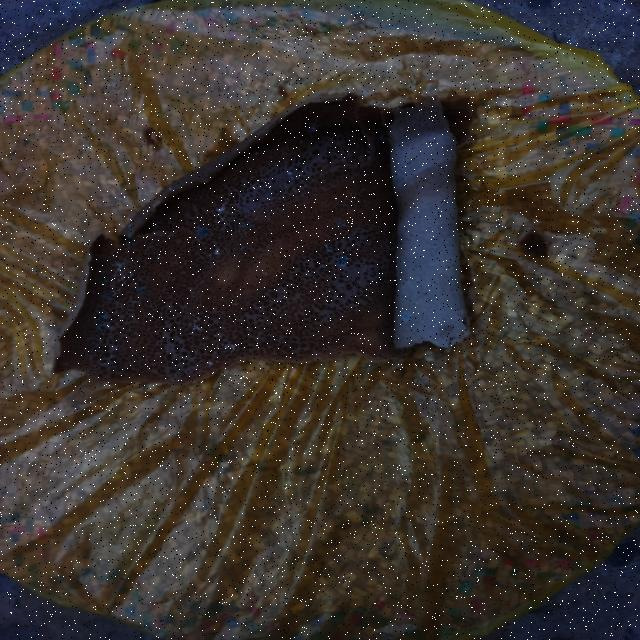injera_mold: (113, 270, 130, 279), (197, 226, 210, 236), (306, 124, 318, 134), (225, 342, 236, 352), (134, 285, 146, 294), (215, 204, 228, 212), (101, 292, 112, 301), (212, 247, 223, 256), (98, 359, 109, 368), (89, 339, 103, 346), (110, 262, 126, 268), (98, 276, 110, 284), (116, 280, 126, 289), (154, 252, 163, 262), (337, 257, 346, 266), (323, 243, 331, 253), (97, 324, 108, 331), (192, 325, 203, 332), (129, 235, 136, 246), (378, 134, 386, 143), (192, 318, 202, 324), (98, 312, 105, 320), (286, 172, 294, 179), (338, 220, 344, 229), (237, 246, 247, 251), (251, 151, 261, 156), (110, 356, 116, 362), (243, 223, 250, 228), (206, 361, 213, 366), (112, 285, 115, 296), (92, 291, 98, 296), (319, 266, 326, 270), (298, 140, 304, 144), (330, 138, 334, 144), (103, 263, 108, 267), (262, 272, 268, 274), (128, 225, 132, 228), (149, 306, 152, 308), (116, 292, 118, 295), (172, 305, 174, 307), (232, 304, 237, 304)
